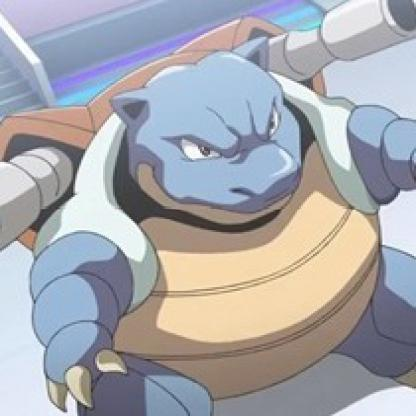Blastoise: (9, 34, 415, 415)
